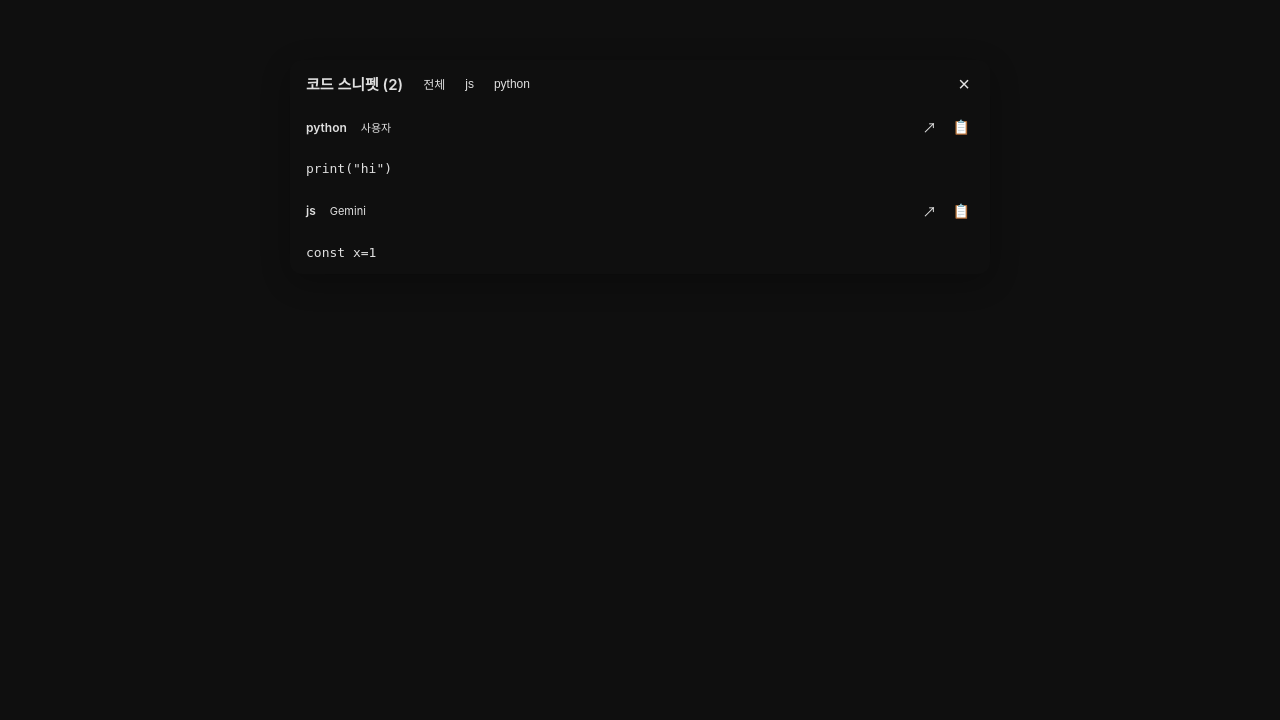
Scenario: CodeSnippets › shows "no matching" empty message when filtered to nonexistent language
Note: Filter to js shows 1
Click the button with aria-label "js 필터" at [470, 84], box [457, 72, 482, 95]
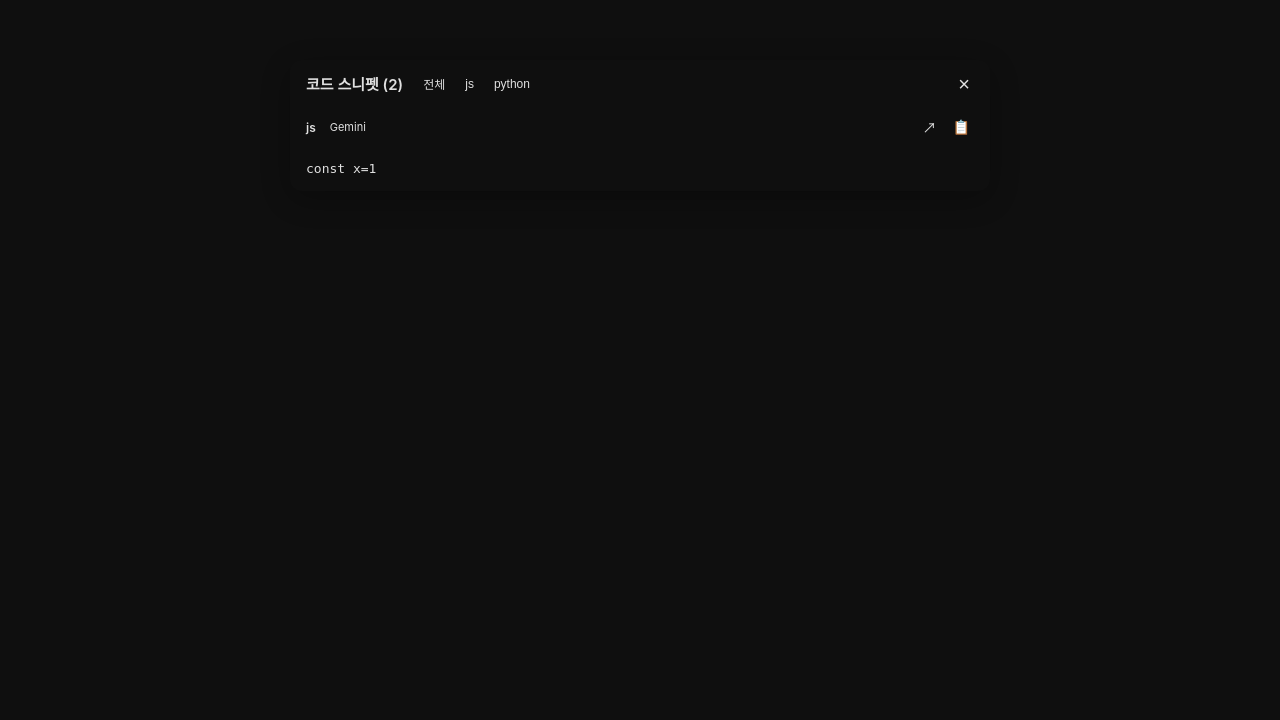
Now the number of elements with class "code-snippet-item" is 1, box [290, 107, 990, 191]
